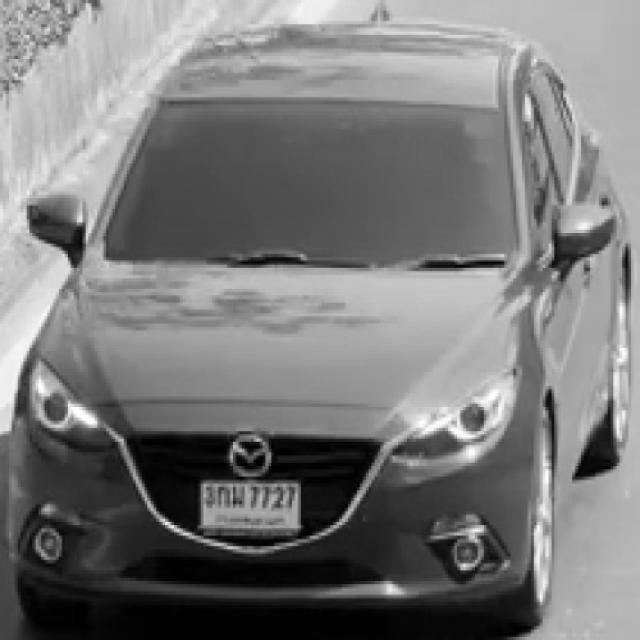plate: (202, 479, 301, 537)
